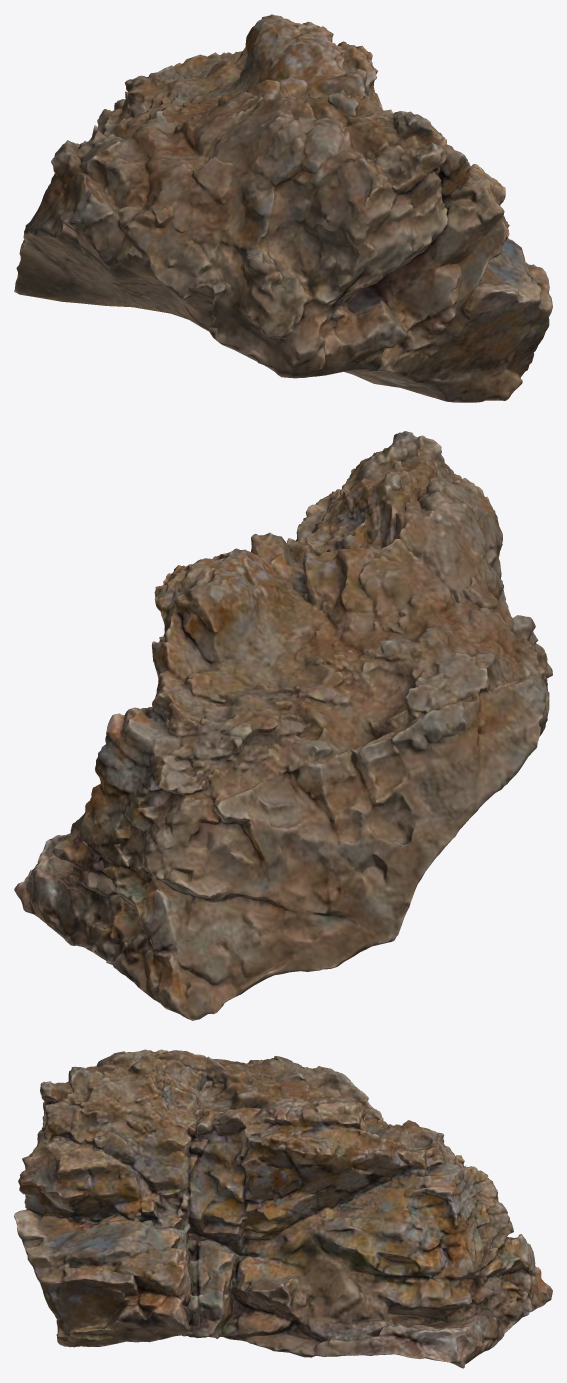
File: ph_boulder_01.glb
The picture shows the model from 3 angles, top to bottom: view 1: azimuth 30°, elevation 25°; view 2: azimuth 150°, elevation 25°; view 3: azimuth 270°, elevation 25°; orthographic projection. The views are drawn at different scales.
Visible parts, largest first — view 1: boulder_01; view 2: boulder_01; view 3: boulder_01.
Part boxes in pixels (<box>): boulder_01: <box>14,14,552,402</box>; boulder_01: <box>14,431,552,1020</box>; boulder_01: <box>14,1049,552,1368</box>.
Size of the model in its own units: 1.27 by 1 by 1.83.
Materials: 1 (1 with a texture image).
